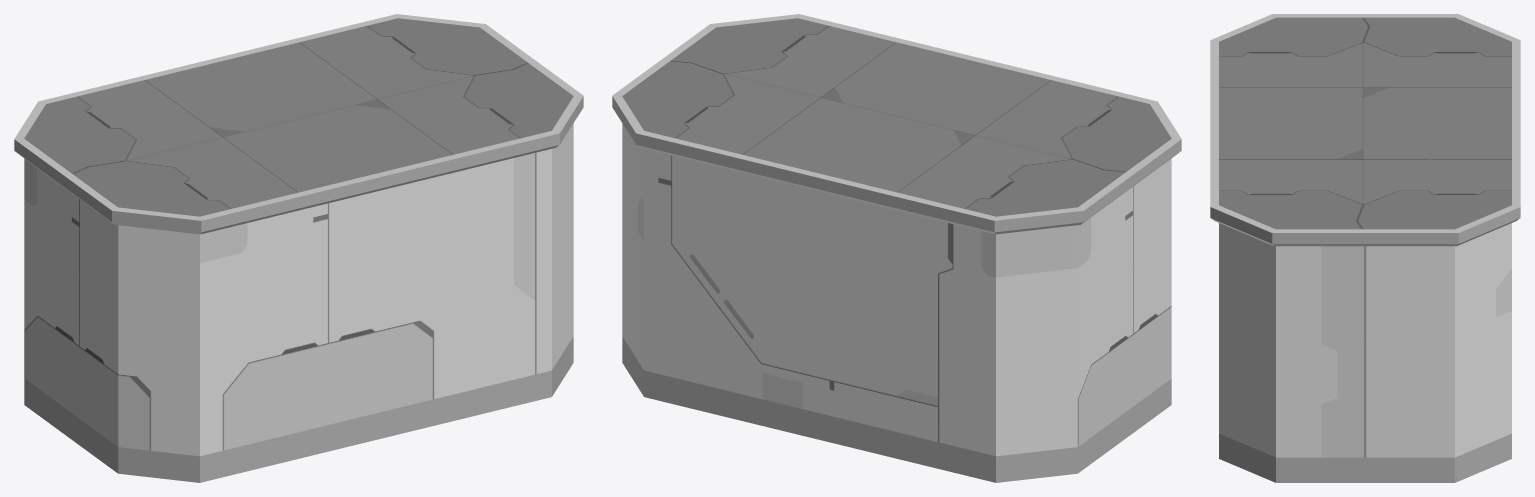
File: SM_Platform_3x5_1.fbx
3 renders of one model, left to right at view 1: azimuth 30°, elevation 25°; view 2: azimuth 150°, elevation 25°; view 3: azimuth 270°, elevation 25°, orthographic. The views are drawn at different scales.
Visible parts, largest first — view 1: SM_Platform_3x5_1; view 2: SM_Platform_3x5_1; view 3: SM_Platform_3x5_1.
Part boxes in pixels (x1=…): SM_Platform_3x5_1: x1=14, y1=14, x2=583, y2=482; SM_Platform_3x5_1: x1=612, y1=14, x2=1181, y2=482; SM_Platform_3x5_1: x1=1210, y1=14, x2=1520, y2=482.
Size of the model in its own units: 501 by 270 by 300.
